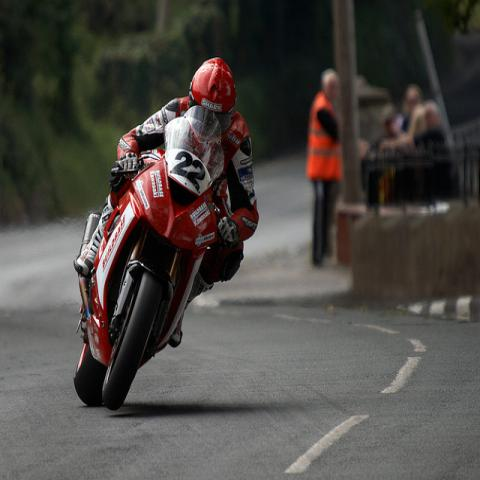motorcycle: (73, 99, 232, 412)
